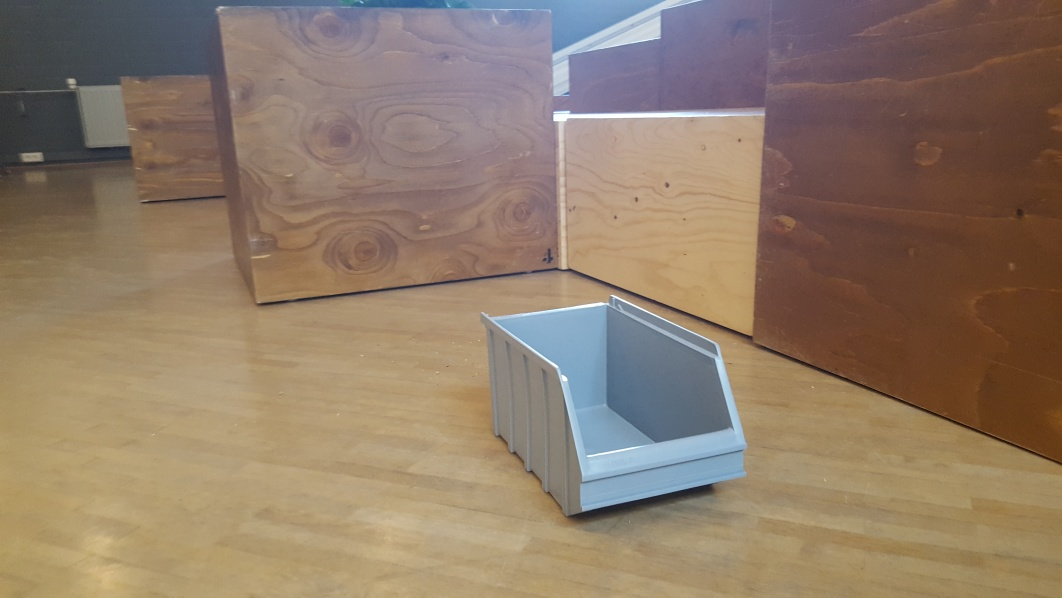tray: (477, 291, 749, 518)
